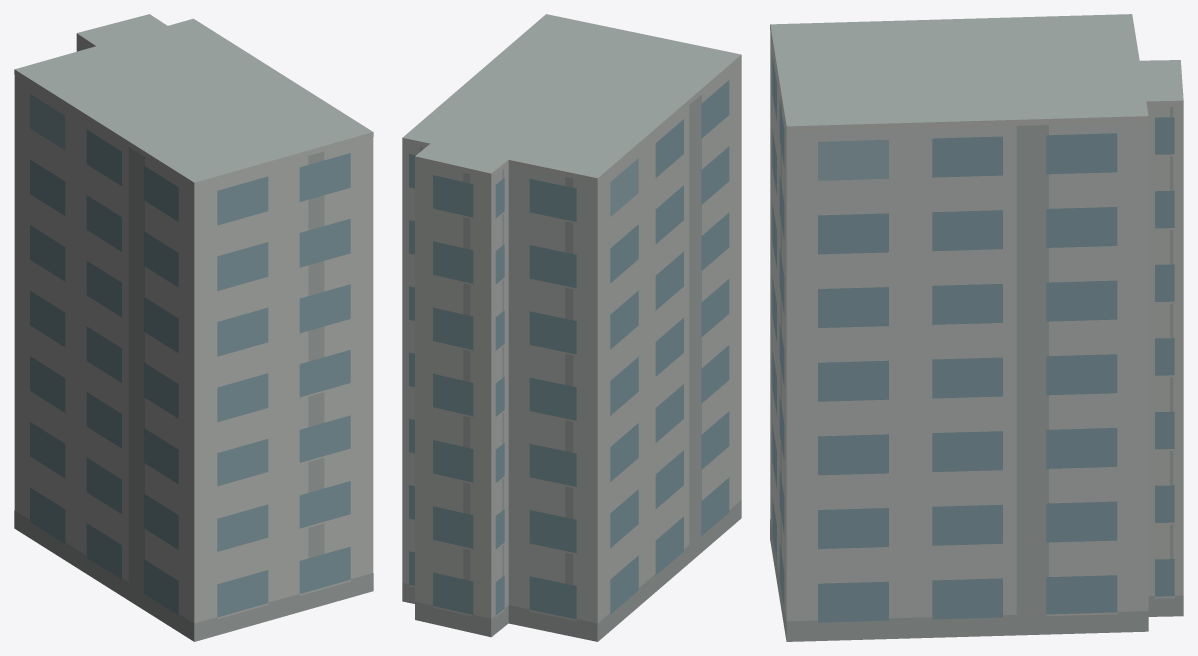
The model's file is survey-upis-32569965.glb.
3 renders of one model, left to right at view 1: azimuth 30°, elevation 25°; view 2: azimuth 150°, elevation 25°; view 3: azimuth 270°, elevation 25°, orthographic. The views are drawn at different scales.
Parts seen in each view (by area): view 1: survey-upis-32569965.tmp; view 2: survey-upis-32569965.tmp; view 3: survey-upis-32569965.tmp.
Boxes of the visible parts, left/top/right/bottom form: survey-upis-32569965.tmp: left=14, top=14, right=373, bottom=641; survey-upis-32569965.tmp: left=402, top=14, right=741, bottom=641; survey-upis-32569965.tmp: left=770, top=14, right=1183, bottom=641.
Size of the model in its own units: 9.64 by 20.6 by 14.98.
